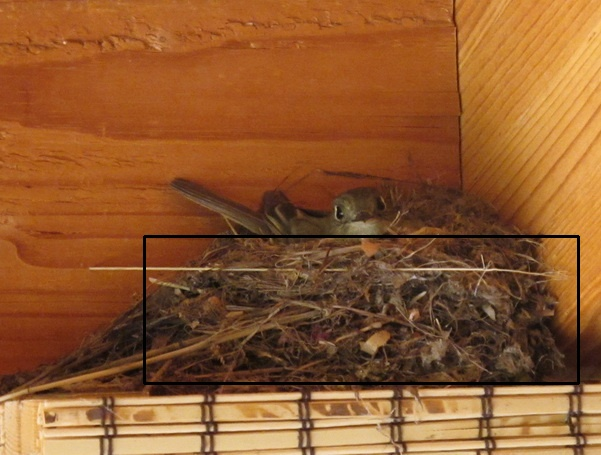bird-nest: (144, 236, 578, 383)
